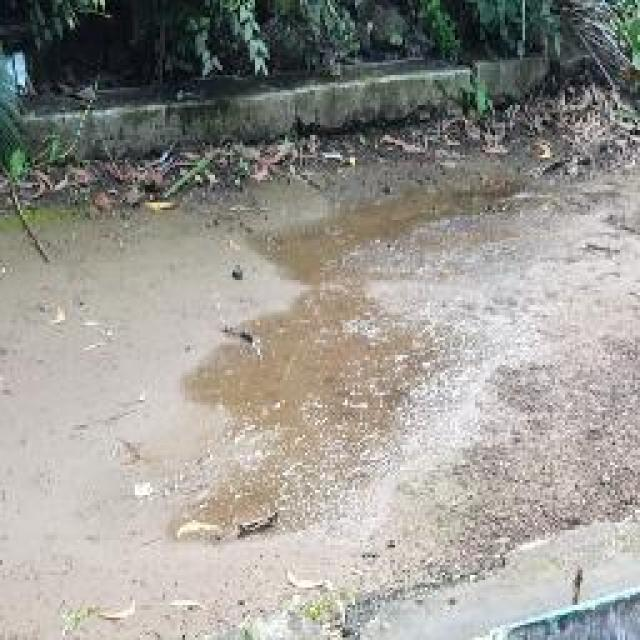waterlogging: (201, 222, 431, 568)
